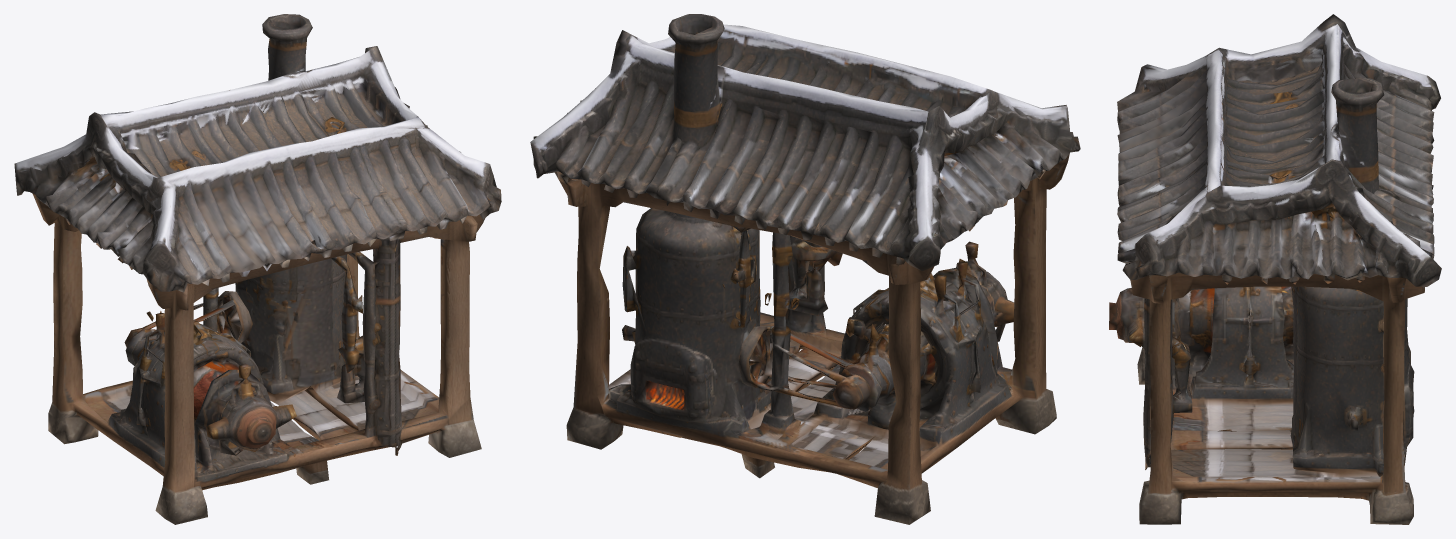
The model's file is PR_MulbulGenerator.fbx.
3 renders of one model, left to right at view 1: azimuth 30°, elevation 25°; view 2: azimuth 150°, elevation 25°; view 3: azimuth 270°, elevation 25°, orthographic. The views are drawn at different scales.
Parts seen in each view (by area): view 1: texture_mapping; view 2: texture_mapping; view 3: texture_mapping.
Boxes of the visible parts, x1,y1,x2,y2 form: texture_mapping: (14, 14, 501, 524); texture_mapping: (530, 14, 1080, 524); texture_mapping: (1109, 14, 1441, 524).
Bounding box in the file's own units: 0.9891 × 0.7505 × 0.9891.
Materials: 1 (1 with a texture image).
